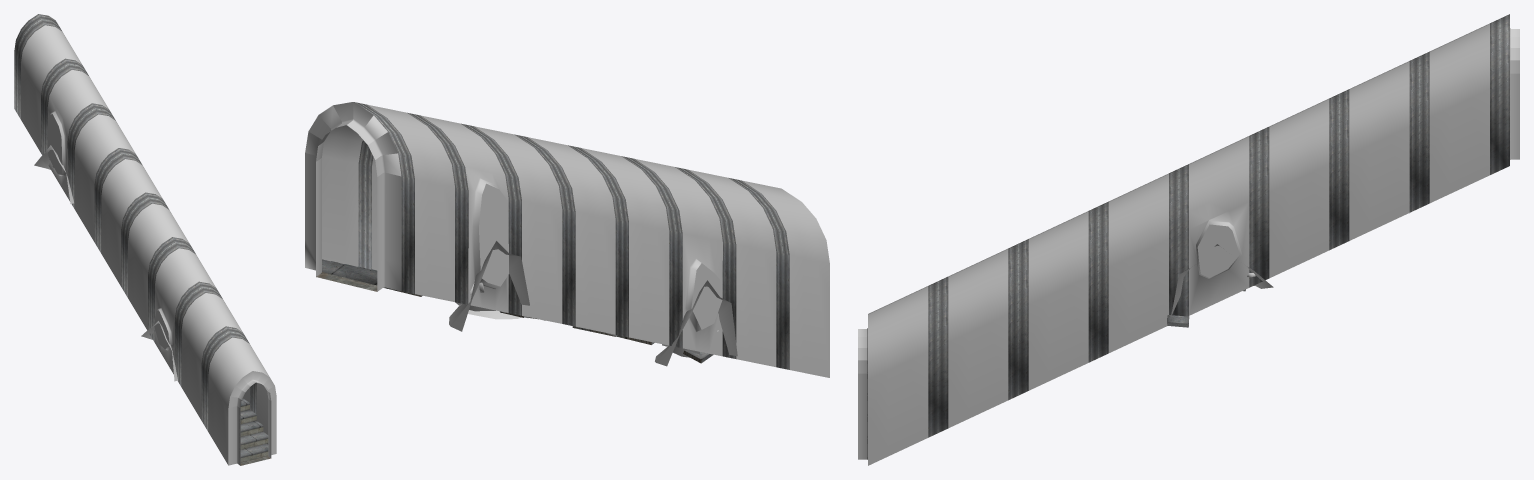
Rendered from Stairs_1.FBX.
3 views of the same model, side by side, from view 1: azimuth 30°, elevation 25°; view 2: azimuth 150°, elevation 25°; view 3: azimuth 270°, elevation 25° (orthographic). The views are drawn at different scales.
Parts seen in each view (by area): view 1: Object116; view 2: Object116; view 3: Object116.
Boxes of the visible parts, x1,y1,x2,y2 form: Object116: [14, 14, 276, 465]; Object116: [305, 102, 829, 377]; Object116: [858, 14, 1519, 465].
Bounding box in the file's own units: 487 × 2166 × 3000.
